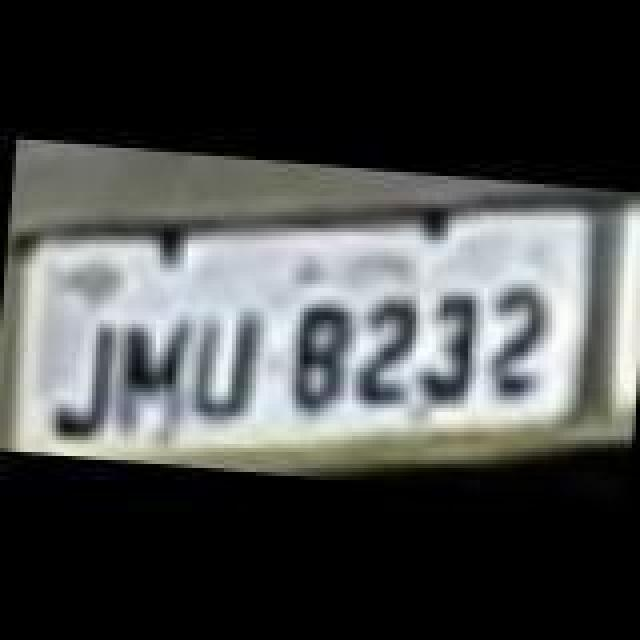2: (480, 280, 560, 400), (352, 292, 416, 412)
3: (416, 284, 480, 404)
8: (284, 298, 348, 414)
J: (40, 316, 120, 436)
M: (112, 316, 192, 444)
U: (184, 300, 264, 420)
